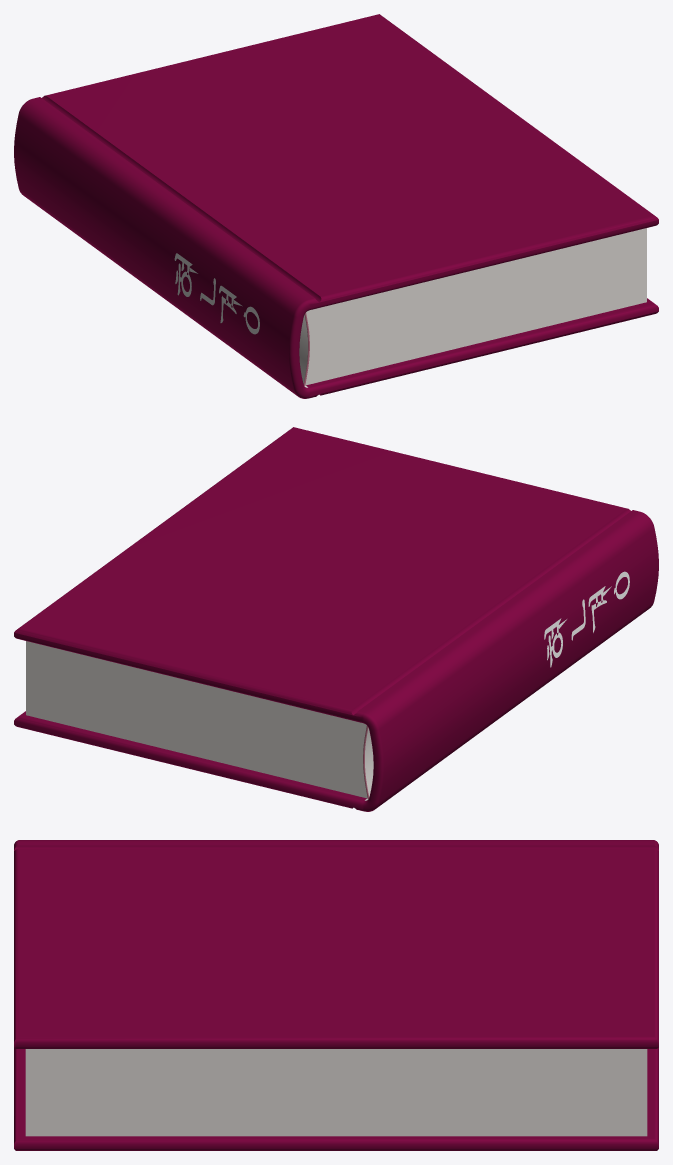
Rendered from book10.glb.
The picture shows the model from 3 angles, top to bottom: view 1: azimuth 30°, elevation 25°; view 2: azimuth 150°, elevation 25°; view 3: azimuth 270°, elevation 25°; orthographic projection. The views are drawn at different scales.
Parts seen in each view (by area): view 1: Geode, Text; view 2: Geode, Text; view 3: Geode.
Boxes of the visible parts, x1,y1,x2,y2 form: Geode: (14,14,658,398); Text: (174,253,259,334); Geode: (14,427,658,811); Text: (544,571,629,667); Geode: (14,840,658,1150).
Size of the model in its own units: 0.5054 by 0.1292 by 0.6604.
3 materials, 1 textured.
